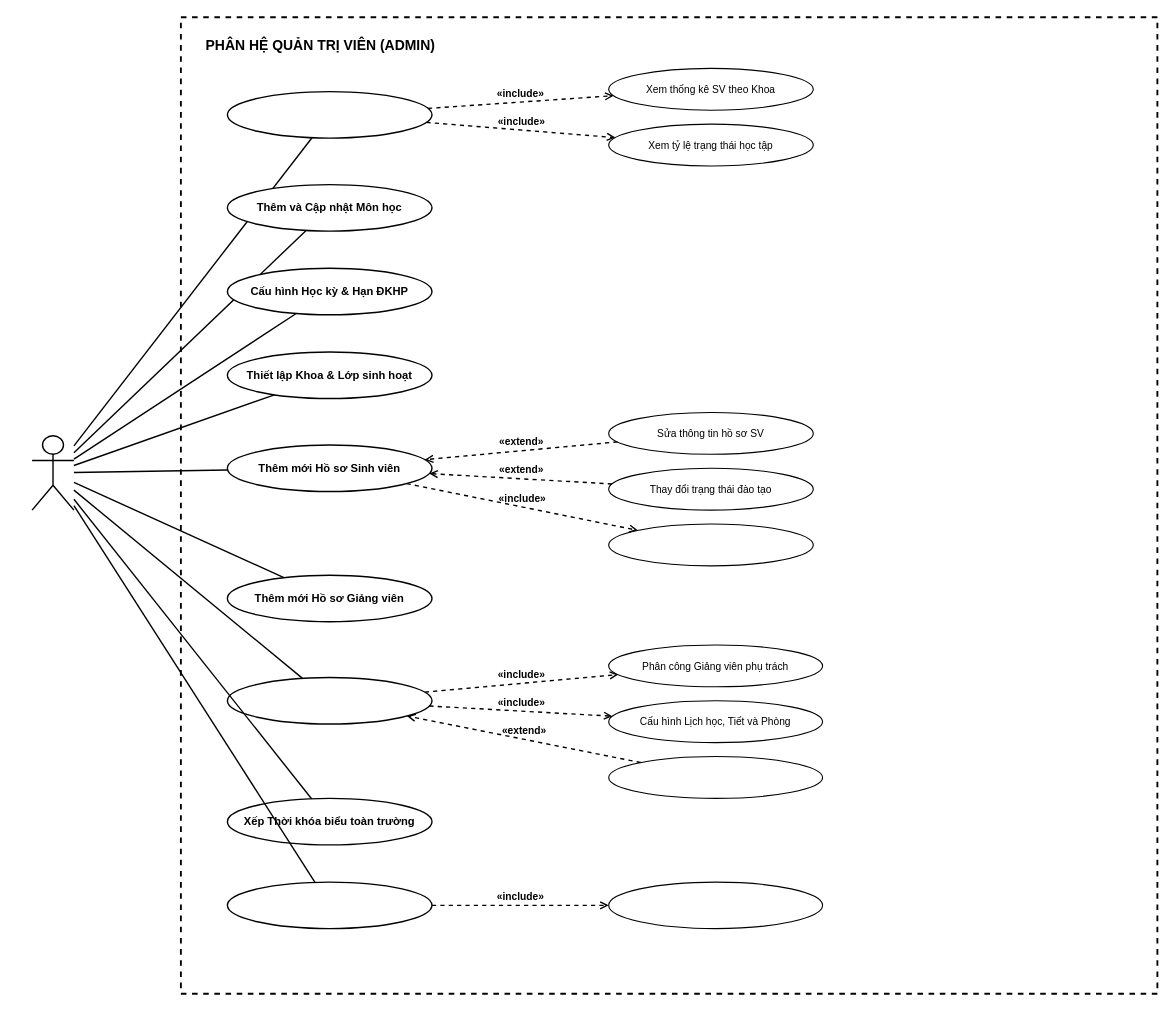
The diagram is 1175 pixels wide and 1010 high, and some of its shapes have lost their labels. Each missing label, with the centre of its shape:
Mở mới Lớp học phần: pixel 329 700
Quản trị viên (Admin): pixel 52 472
Theo dõi tiến độ vào điểm: pixel 329 905
Tìm kiếm và Lọc hồ sơ SV: pixel 710 544
Xem biểu đồ thống kê KPI: pixel 329 114
Xem chi tiết bảng điểm lớp HP: pixel 715 905
Đóng / Mở đợt đăng ký lớp: pixel 715 777
